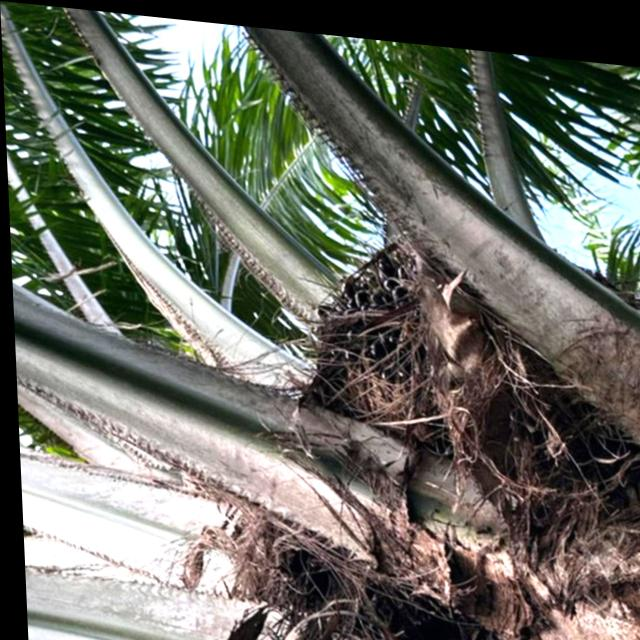almost: (290, 231, 465, 451)
